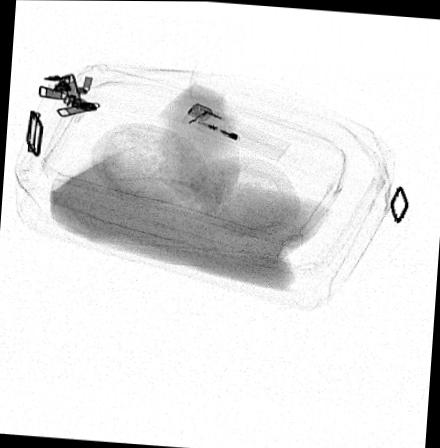Lighter: (180, 101, 291, 160)
